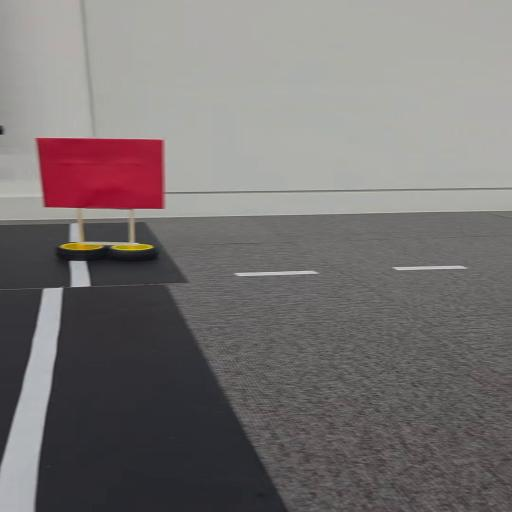Sign_A: (28, 134, 164, 268)
